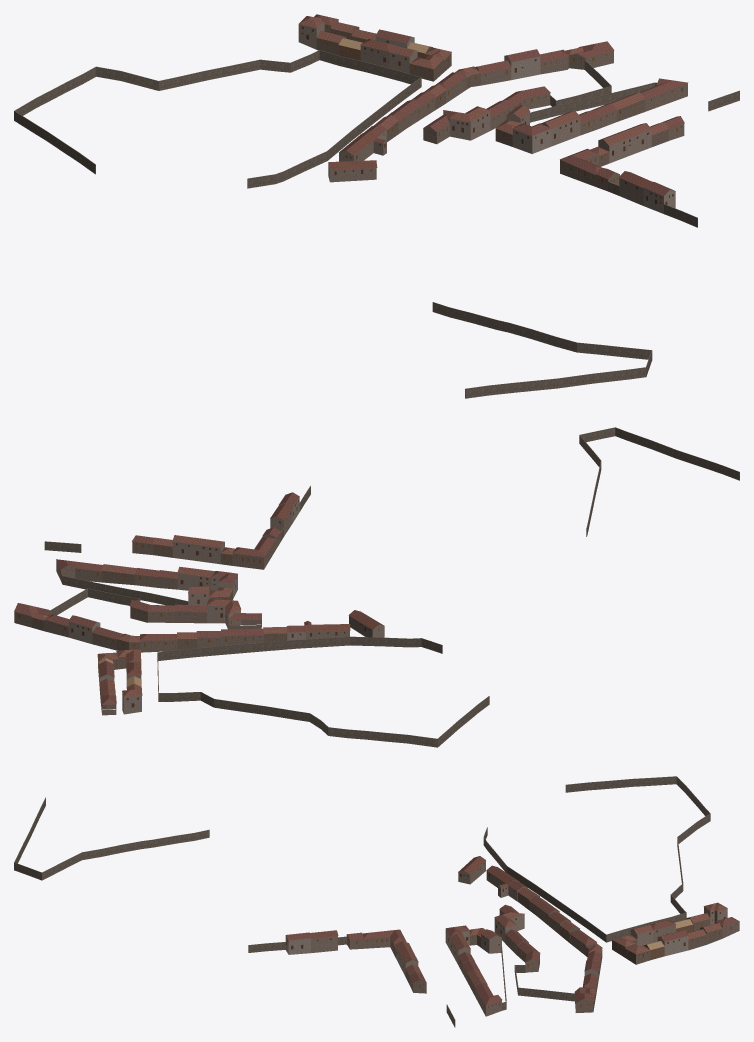
Rendered from CasasExterioresSinTextura4.fbx.
3 renders of one model, top to bottom at view 1: azimuth 30°, elevation 25°; view 2: azimuth 150°, elevation 25°; view 3: azimuth 270°, elevation 25°, orthographic. The views are drawn at different scales.
Visible parts, largest first — view 1: facM2_1_m.018, roofB1_m.001, facM1_1_m.016, facM3_m.159, roofB1_m.071, facM3_m.014, roofB1_m.057, facM2_1_m.023, facM1_1_m.013, facM2_1_m.004, facM1_1_m.004, facM3_m.015 (+5 smaller); view 2: roofB1_m.001, roofB1_m.071, facM2_1_m.018, facM2_1_m.023, facM2_1_m.004, facM3_m.159, roofB1_m.049, facM3_m.014, facM1_1_m.013, facB2_m.059, roofB1_m.054, roofB1_m.053; view 3: roofB1_m.001, facM2_1_m.018, roofB1_m.071, facM1_1_m.014, facM3_m.004, facM3_m.014, facM1_1_m.004, facM3_m.159, roofB1_m.057, facM2_1_m.022.
Part boxes in pixels (x1,y1,x2,y2): facM2_1_m.018: (443, 106, 490, 140); roofB1_m.001: (560, 148, 601, 186); facM1_1_m.016: (512, 123, 551, 153); facM3_m.159: (328, 160, 377, 182); roofB1_m.071: (640, 78, 688, 111); facM3_m.014: (339, 131, 386, 161); roofB1_m.057: (569, 41, 614, 69); facM2_1_m.023: (541, 111, 580, 146); facM1_1_m.013: (504, 49, 540, 79); facM2_1_m.004: (598, 129, 633, 163); facM1_1_m.004: (643, 181, 675, 213); facM3_m.015: (360, 39, 397, 68); roofB1_m.001: (232, 537, 276, 569); roofB1_m.071: (56, 559, 102, 582); facM2_1_m.018: (206, 599, 240, 629); facM2_1_m.023: (177, 566, 214, 590); facM2_1_m.004: (192, 537, 224, 564); facM3_m.159: (348, 610, 384, 637); roofB1_m.049: (140, 634, 177, 652); facM3_m.014: (304, 621, 350, 639); facM1_1_m.013: (68, 615, 100, 643); facB2_m.059: (101, 564, 136, 585); roofB1_m.054: (174, 604, 206, 623); roofB1_m.053: (228, 613, 261, 629); roofB1_m.001: (362, 929, 406, 953); facM2_1_m.018: (494, 912, 524, 942); roofB1_m.071: (475, 983, 502, 1016); facM1_1_m.014: (657, 930, 688, 956); facM3_m.004: (310, 930, 338, 952); facM3_m.014: (486, 865, 519, 897); facM1_1_m.004: (285, 932, 310, 954); facM3_m.159: (458, 856, 485, 884); roofB1_m.057: (574, 987, 594, 1012); facM2_1_m.022: (481, 929, 501, 953).
Size of the model in its own units: 30154 by 1989 by 40706.
